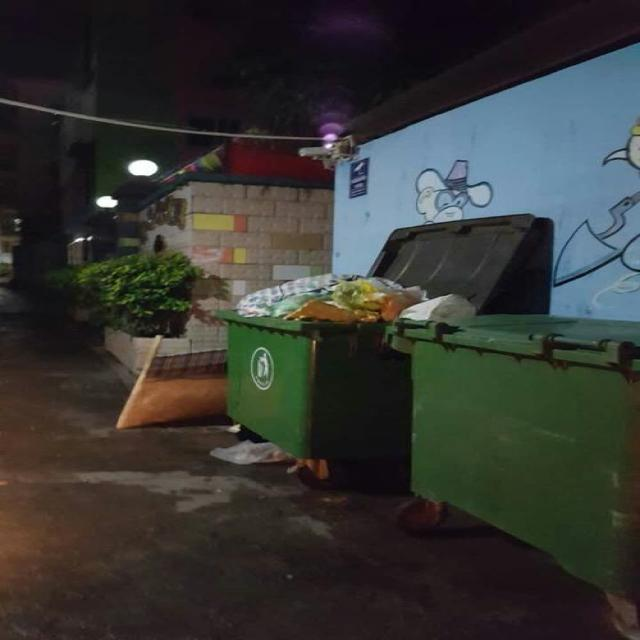garbage: (208, 437, 282, 464)
garbage_bin: (382, 314, 638, 595)
overflow: (211, 273, 474, 458)
